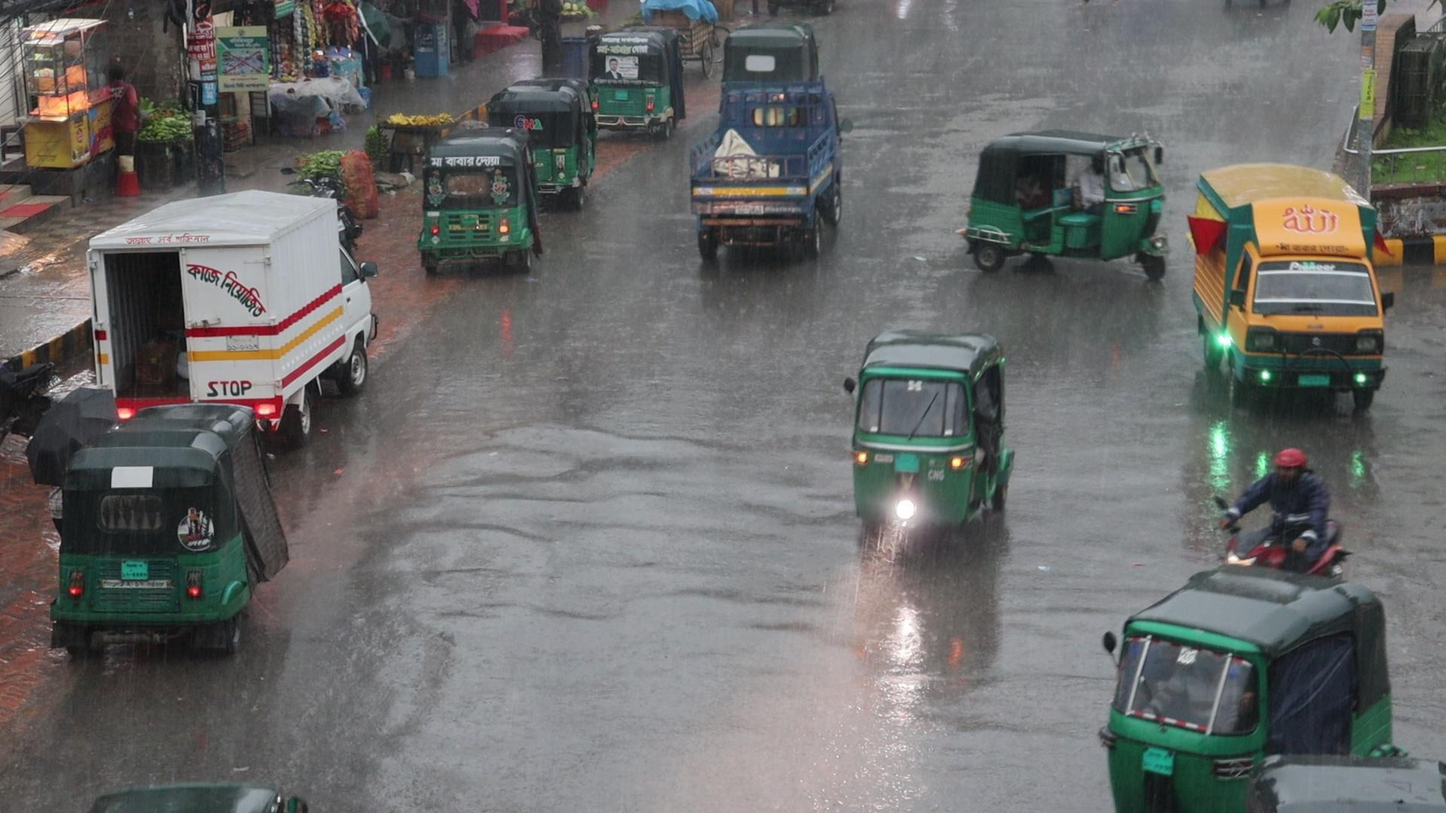Truck: (1182, 157, 1392, 426), (675, 81, 848, 273)
